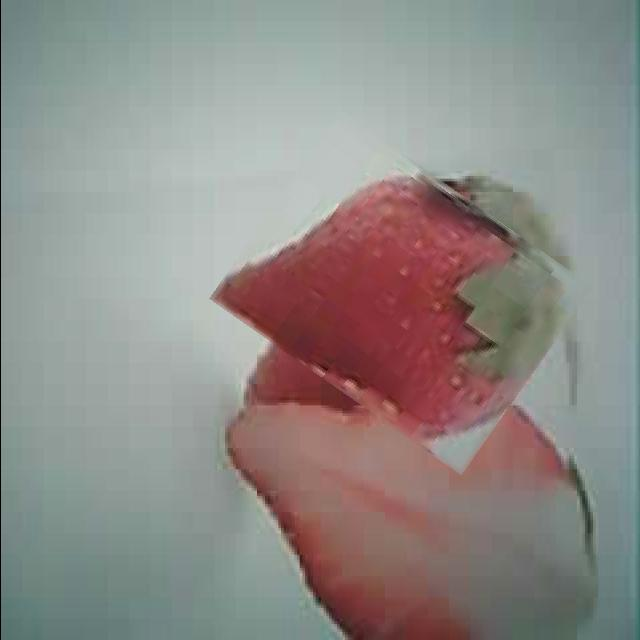strawberry: (227, 144, 573, 442)
